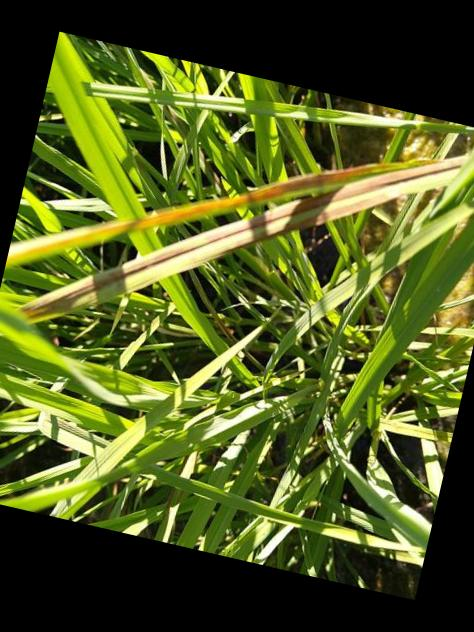Leaf Streak: (20, 158, 467, 321), (7, 163, 383, 264)
